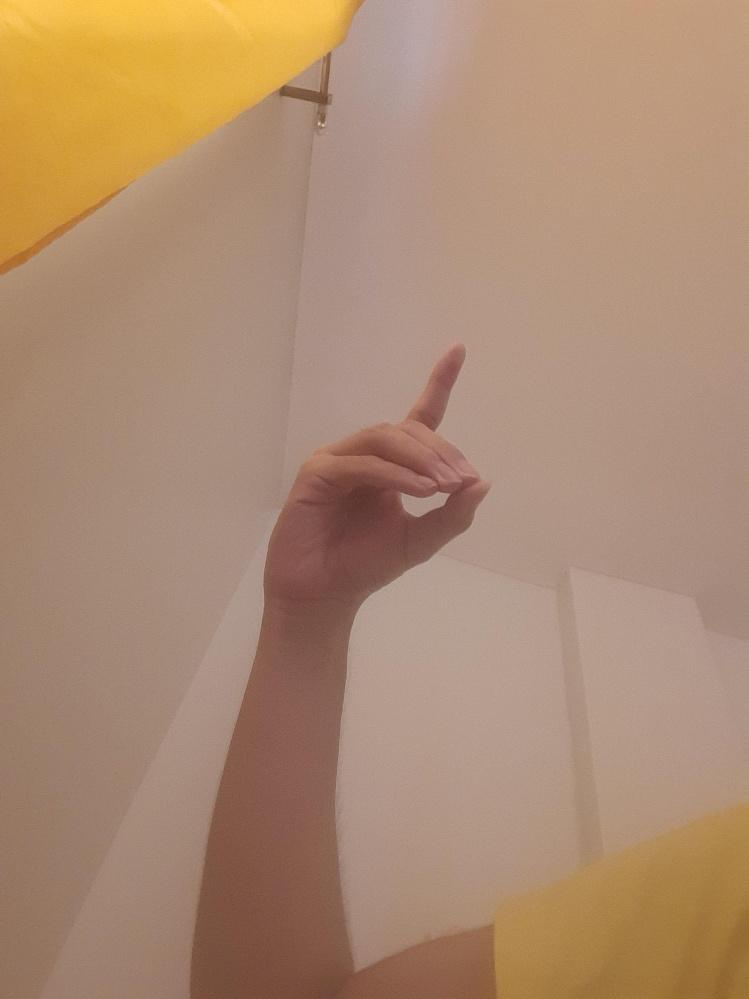d: (262, 340, 487, 599)
